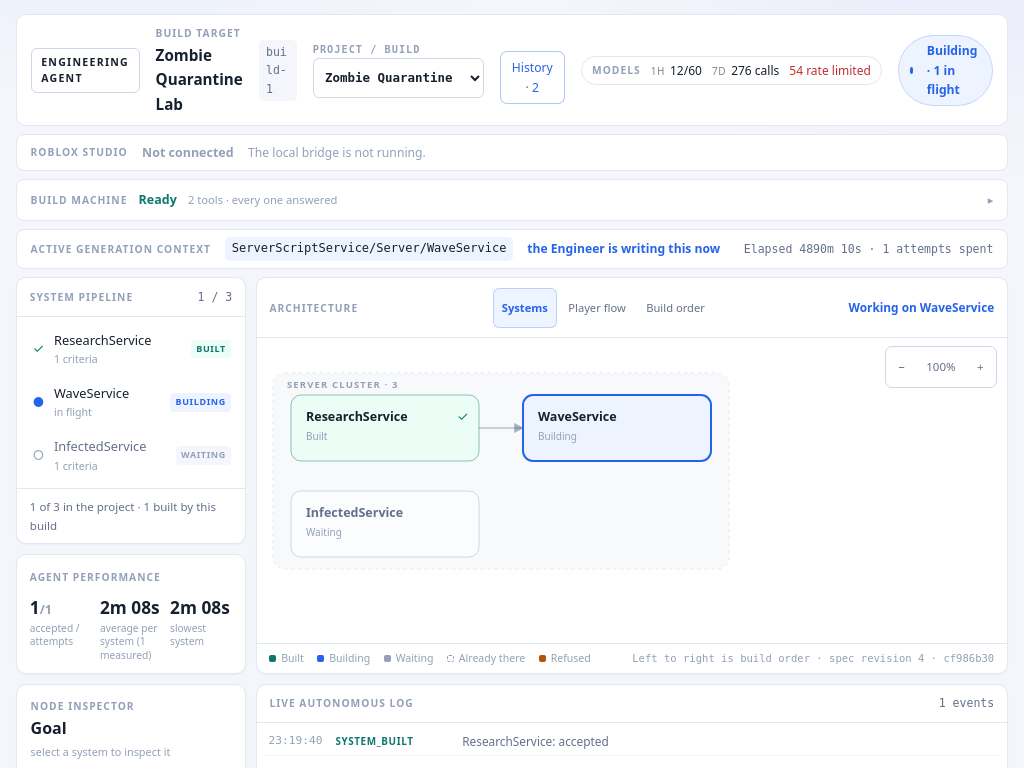
Scenario: build history › lists earlier builds, with what each one actually produced
This screenshot has width=1024, height=768.
Check: the element with test id "architecture-map" is shown, box [257,338,1007,673]
Click the button "History · 2" at (532, 78), box [500,51,565,104]
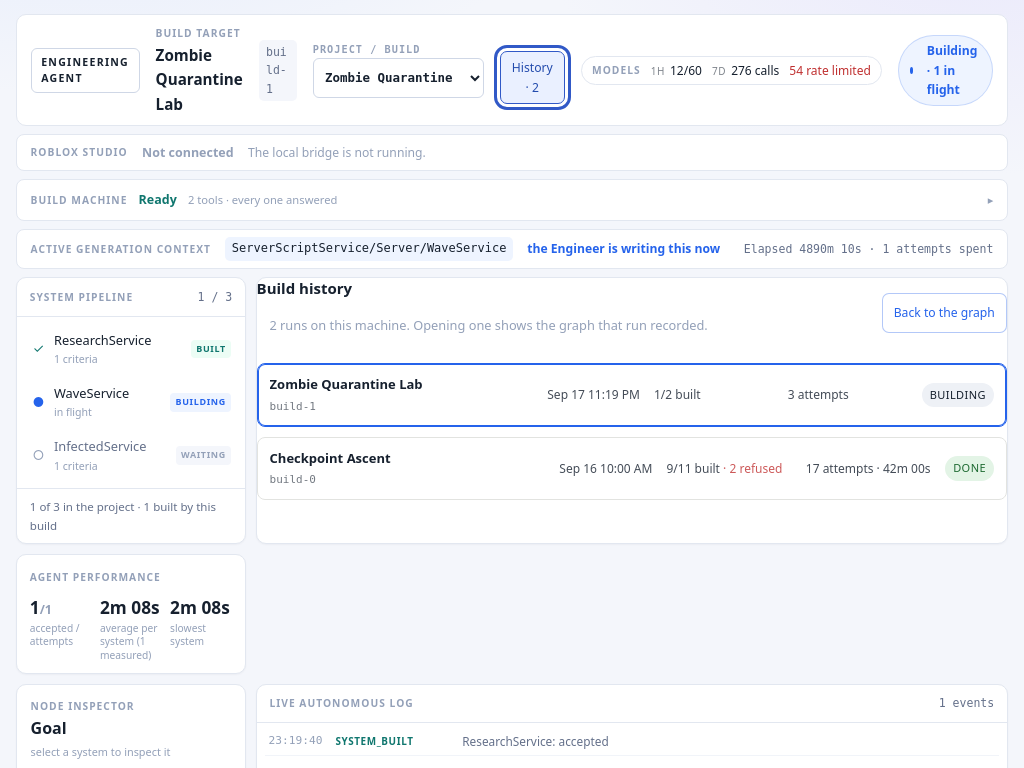
Check: the text "Checkpoint Ascent" is shown, box [270,449,391,467]
Check: the text "· 2 refused" is shown, box [720,460,782,477]
Check: the text "9/11 built · 2 refused" is shown, box [666,459,792,478]
